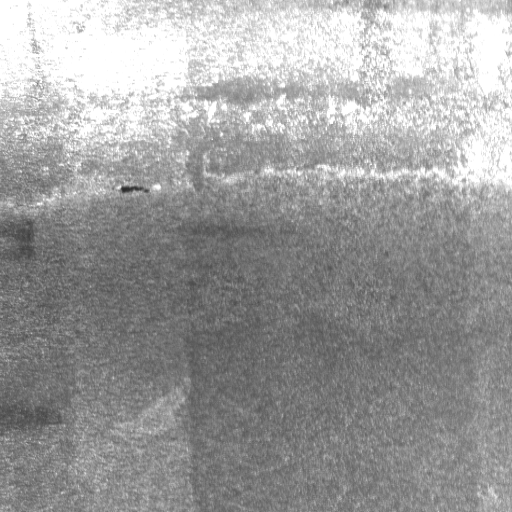hengxiangliewen: (116, 182, 151, 197)
